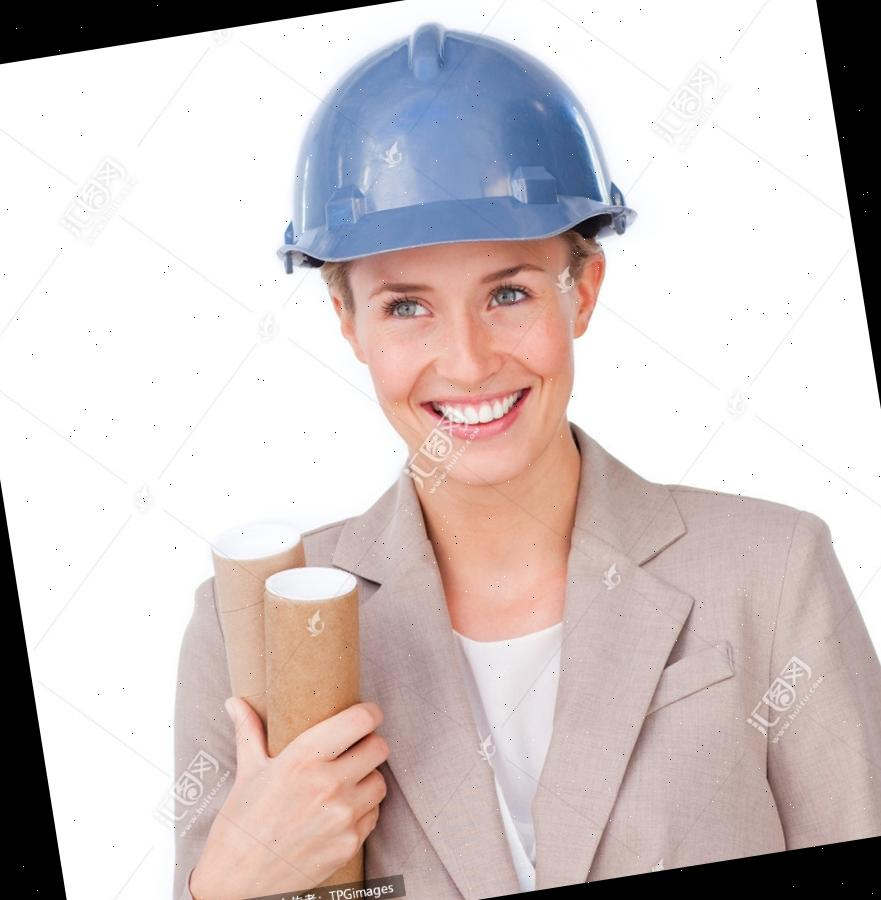helmet: (232, 1, 646, 296)
no_wear: (108, 420, 881, 900)
